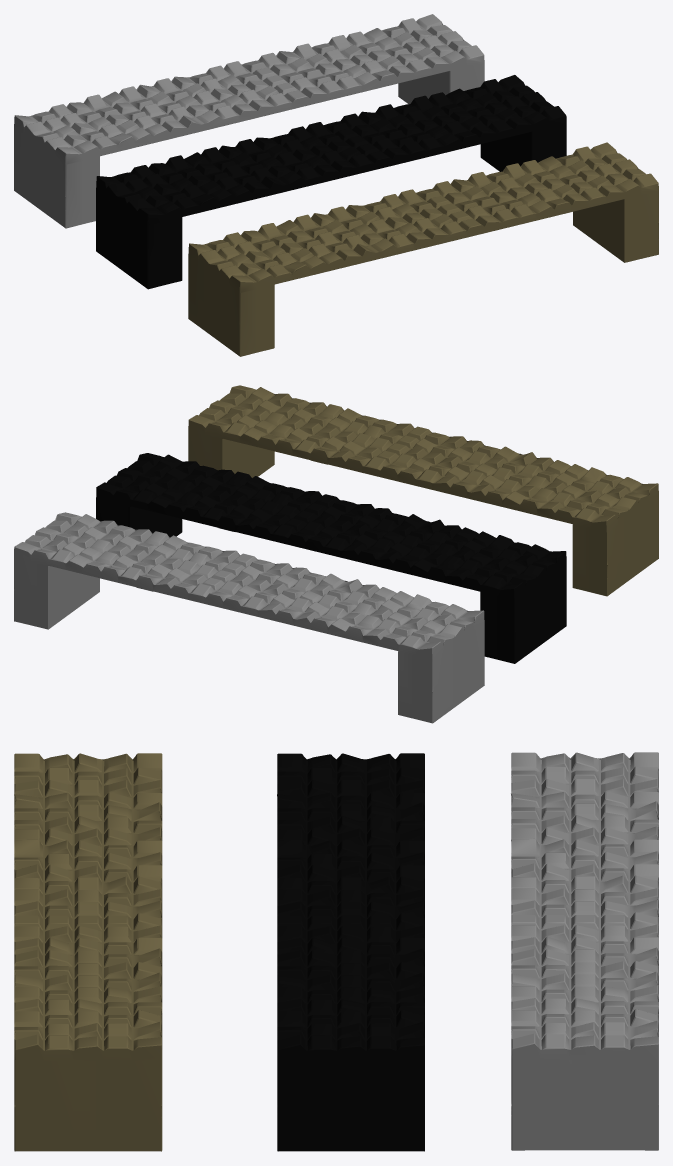
Rendered from handleFF2_fbx.FBX.
3 renders of one model, top to bottom at view 1: azimuth 30°, elevation 25°; view 2: azimuth 150°, elevation 25°; view 3: azimuth 270°, elevation 25°, orthographic. The views are drawn at different scales.
Parts seen in each view (by area): view 1: handle1, handle2, handle3; view 2: handle3, handle1, handle2; view 3: handle1, handle2, handle3.
Part boxes in pixels (box(x1,y1,x2,y2)): handle1: box(188, 142, 658, 356); handle2: box(96, 75, 566, 289); handle3: box(14, 14, 484, 228); handle3: box(14, 512, 484, 723); handle1: box(188, 385, 658, 596); handle2: box(96, 453, 566, 663); handle1: box(14, 753, 162, 1151); handle2: box(277, 753, 424, 1151); handle3: box(511, 752, 658, 1150).
Size of the model in its own units: 5.51 by 0.9697 by 5.15.
